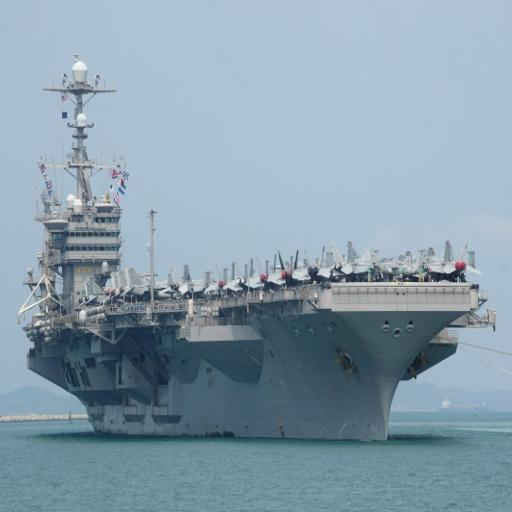Portanaves: (17, 47, 500, 446)
